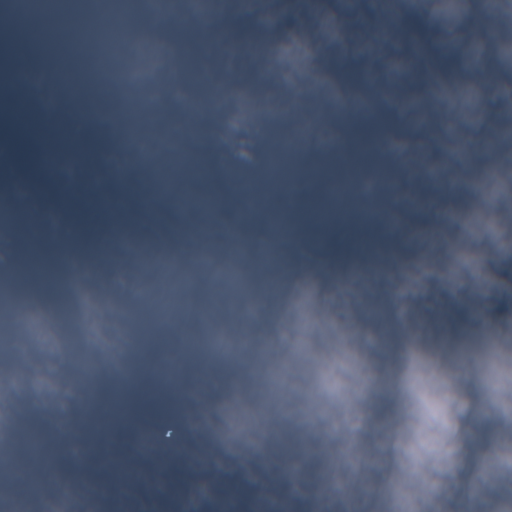Iceberg: (166, 431, 171, 436)
